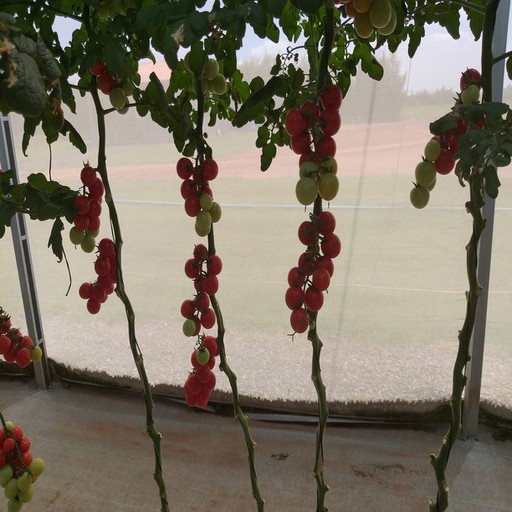green tomato bunch: (187, 51, 227, 98)
mixed tomato bunch: (412, 70, 492, 210), (285, 87, 340, 205), (1, 418, 45, 507), (90, 58, 139, 111), (338, 1, 400, 39)
red tomato bunch: (283, 212, 344, 332), (180, 246, 222, 336), (81, 238, 121, 317), (174, 152, 218, 214), (184, 336, 220, 409), (1, 313, 44, 370), (71, 163, 105, 235)
